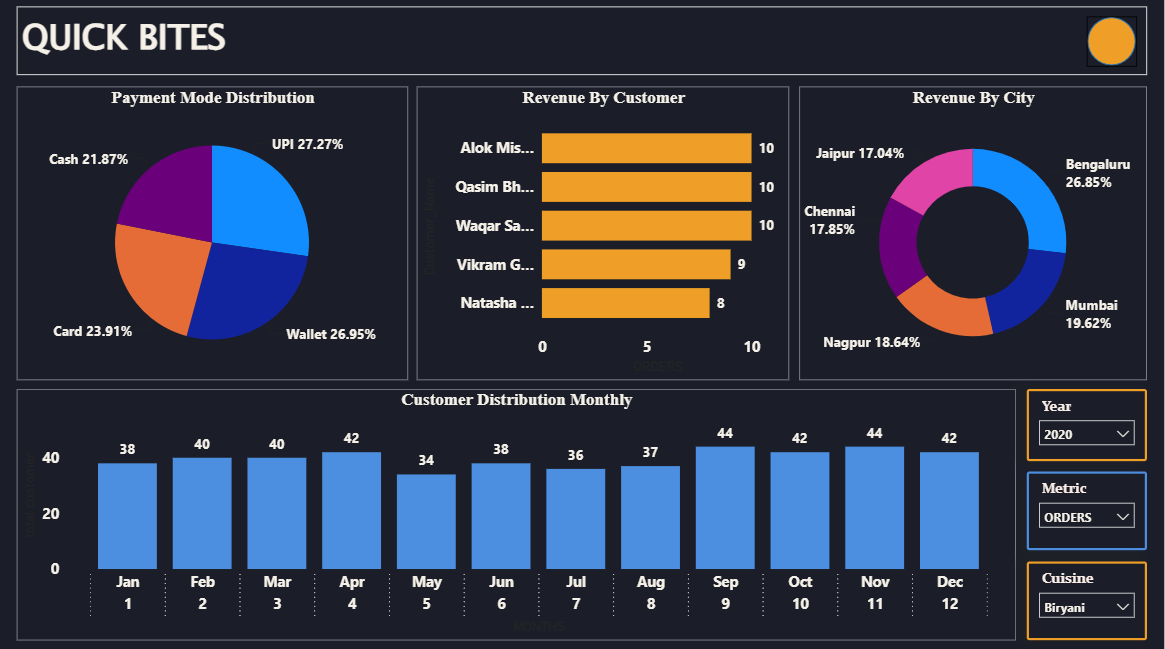

This screenshot's page, from the dashboard's own definition file:
{"tool":"powerbi","page":{"name":"CUSTOMER REPORT","canvas":[1280,720],"ordinal":2},"visuals":[{"type":"pieChart","title":"Payment Mode Distribution","fields":{"Category":["FACT_ORDERS.Payment_Mode"],"Y":["FACT_ORDERS.TOTAL REVENUE"]},"box":[20.6,101.5,429.5,322.5],"z":0},{"type":"clusteredBarChart","title":"Revenue By Customer","fields":{"Y":["FACT_ORDERS.ORDERS"],"Category":["CUSTOMER.Customer_Name"]},"box":[459.7,101.5,408.9,322.5],"z":1000},{"type":"slicer","fields":{"Values":["Parameter 4.Parameter"]},"box":[1129.3,524.2,131.7,86.4],"z":2000},{"type":"donutChart","title":"Revenue By City","fields":{"Category":["CUSTOMER.City"],"Y":["FACT_ORDERS.REVENUE"]},"box":[879.6,101.5,381.5,322.5],"z":3000},{"type":"clusteredColumnChart","title":"Customer Distribution Monthly","fields":{"Y":["CUSTOMER.total customer"],"Category":["calendar.MonthNumber","calendar.MONTHS"]},"box":[20.6,433.6,1096.4,275.8],"z":4000},{"type":"slicer","fields":{"Values":["CUSTOMER.Member_Since.Variation.Date Hierarchy.Year"]},"box":[1129.3,433.6,131.7,79.6],"z":5000},{"type":"textbox","box":[20.6,13.7,1240.5,75.5],"z":6000},{"type":"slicer","fields":{"Values":["RESTAURANT.Cuisine_Type"]},"box":[1129.3,623,131.7,86.4],"z":7000},{"type":"shape","box":[1195.2,24.7,54.9,54.9],"z":8000}]}

Visuals, with their boxes in screenshot pixels (x1, y1, x2, y2), scaled from the page's 1280x720 canvas onto the 1165x649 screenshot:
"Payment Mode Distribution" pieChart: BBox(19, 91, 410, 382)
"Revenue By Customer" clusteredBarChart: BBox(418, 91, 791, 382)
slicer - Parameter 4.Parameter: BBox(1028, 473, 1148, 550)
"Revenue By City" donutChart: BBox(801, 91, 1148, 382)
"Customer Distribution Monthly" clusteredColumnChart: BBox(19, 391, 1017, 639)
slicer - CUSTOMER.Member_Since.Variation.Date Hierarchy.Year: BBox(1028, 391, 1148, 463)
textbox: BBox(19, 12, 1148, 80)
slicer - RESTAURANT.Cuisine_Type: BBox(1028, 562, 1148, 639)
shape: BBox(1088, 22, 1138, 72)
